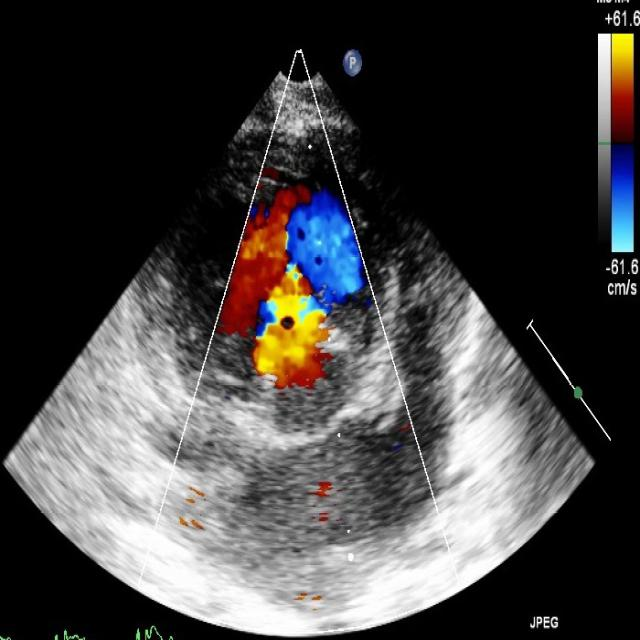VSDType2: (241, 234, 329, 388)
